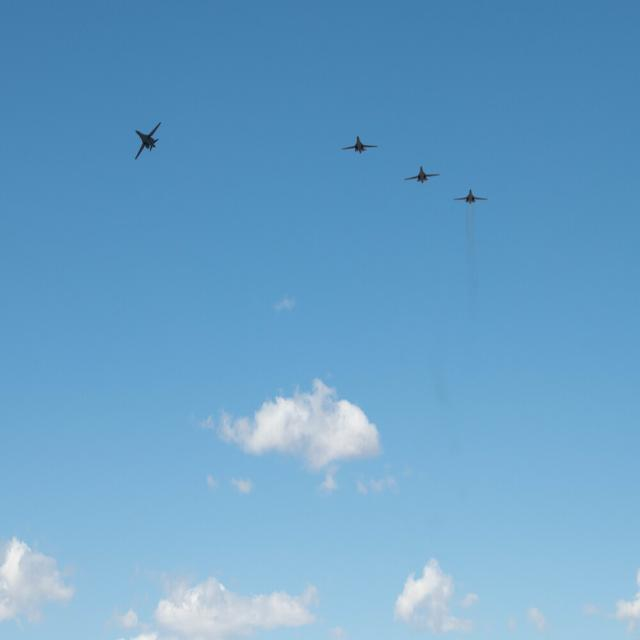MIL_Plane: (71, 57, 97, 96), (340, 68, 378, 81), (404, 104, 441, 116), (452, 191, 488, 201)
